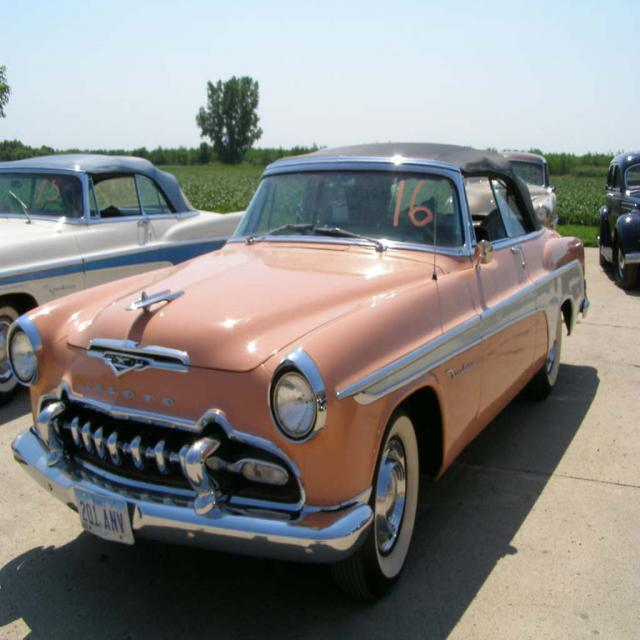other: (2, 140, 592, 595), (0, 152, 248, 396), (442, 148, 560, 232), (598, 149, 639, 287)
